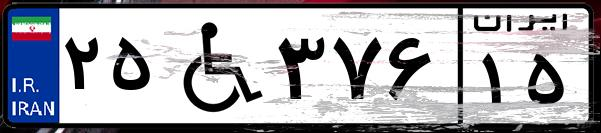1: (475, 38, 525, 113)
2: (57, 26, 110, 100)
3: (270, 28, 330, 110)
5: (525, 38, 570, 115), (110, 28, 158, 98)
6: (385, 28, 445, 110)
7: (330, 28, 385, 110)
ژ (معلولین و جانبازان): (158, 12, 270, 120)
